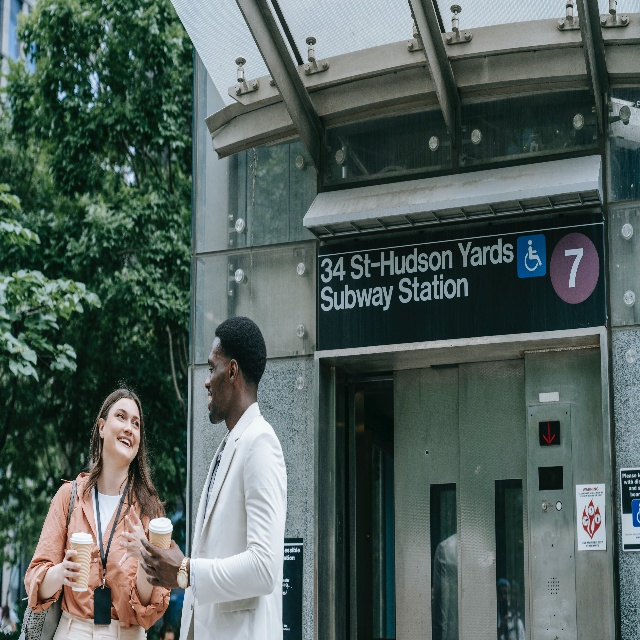Sin_guantes: (138, 534, 183, 589), (116, 505, 147, 567), (60, 549, 82, 589)
